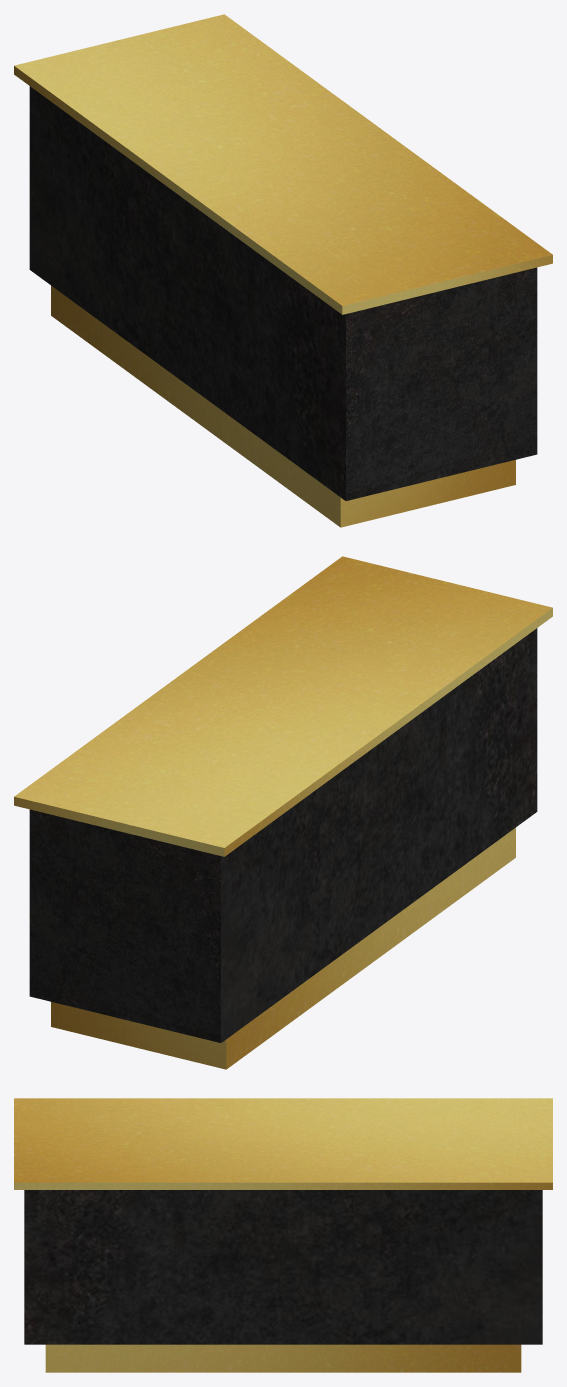
The model's file is Front_Desk.fbx.
3 renders of one model, top to bottom at view 1: azimuth 30°, elevation 25°; view 2: azimuth 150°, elevation 25°; view 3: azimuth 270°, elevation 25°, orthographic. The views are drawn at different scales.
Parts seen in each view (by area): view 1: pCube1; view 2: pCube1; view 3: pCube1.
Boxes of the visible parts, <box> form: pCube1: <box>14,14,552,527</box>; pCube1: <box>14,556,552,1069</box>; pCube1: <box>14,1098,552,1372</box>.
Bounding box in the file's own units: 4.7 × 5.13 × 12.71.
2 materials, 2 textured.
